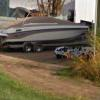Boat: (1, 12, 94, 58)
